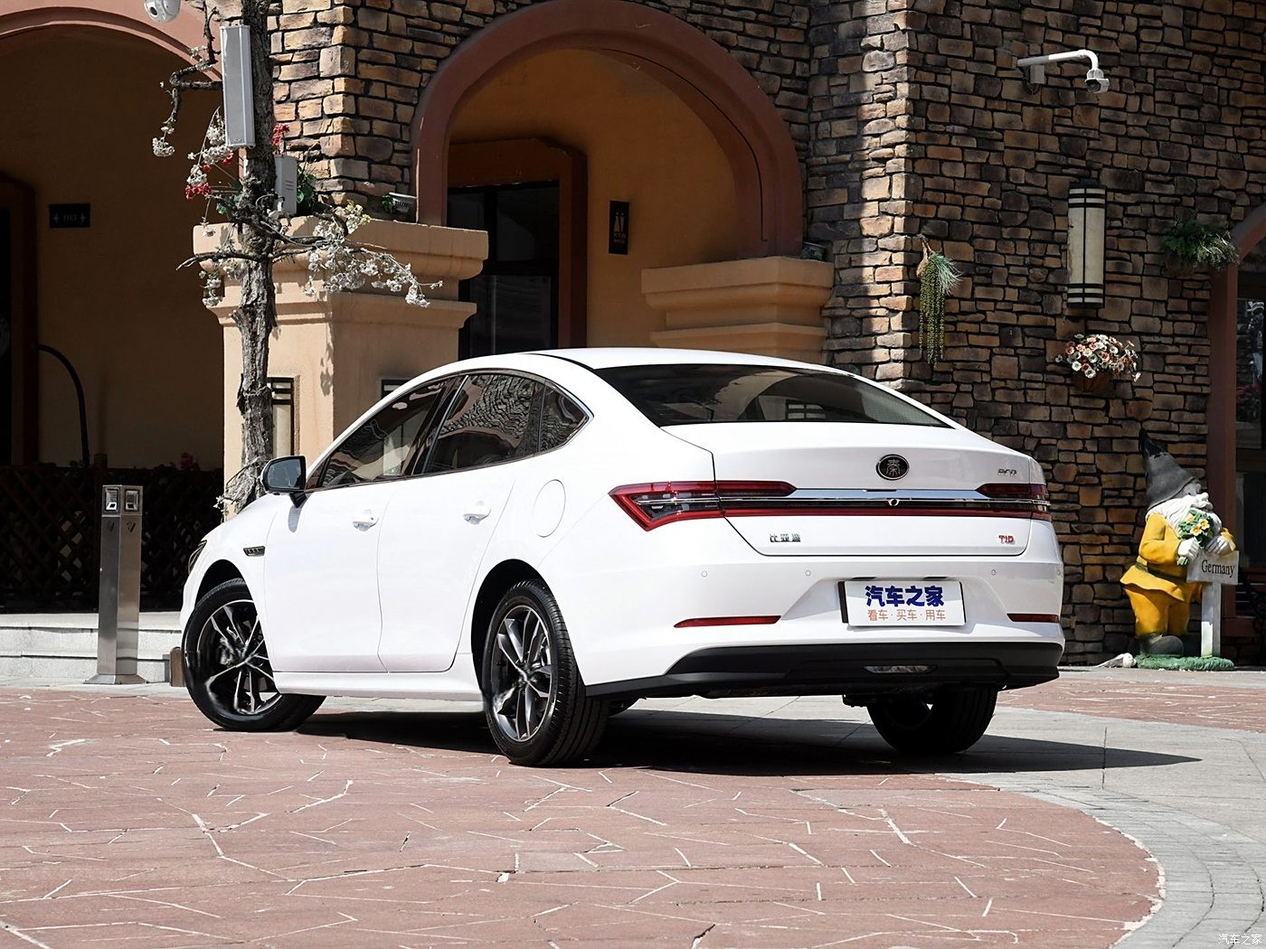BYD Qin: (876, 455, 909, 480)
